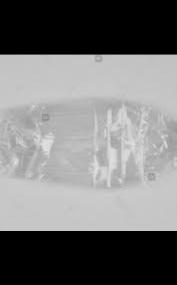bottle: (0, 93, 177, 206)
